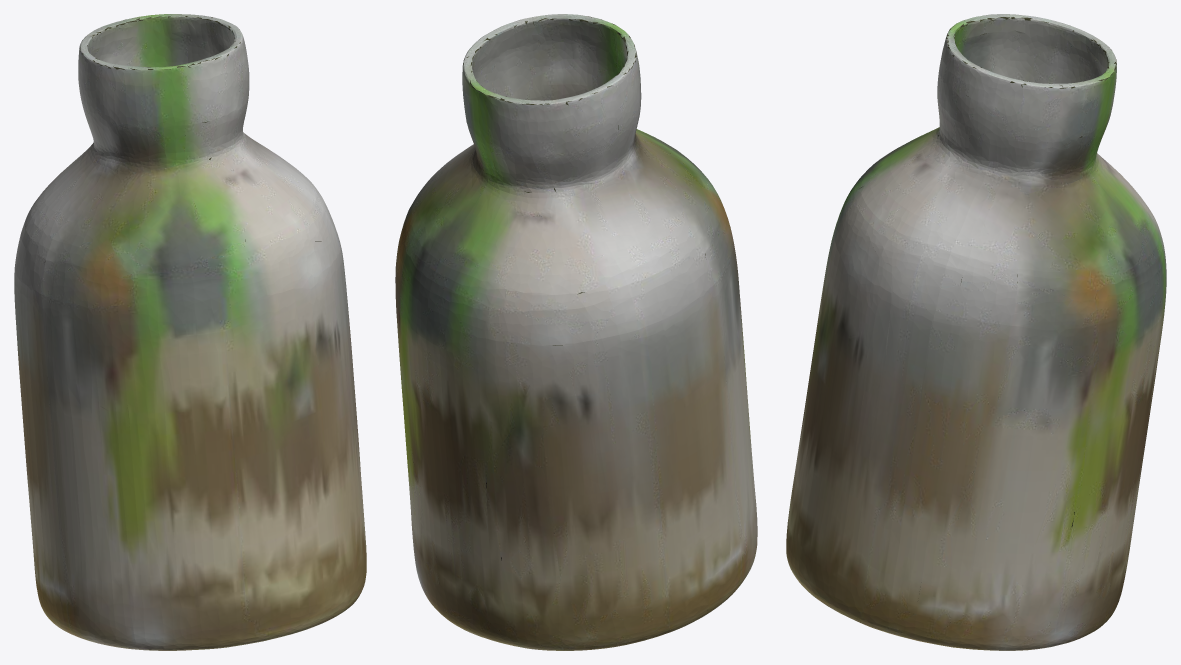
Rendered from pair_of_glass_vases_with_plants_on_console_table_001.glb.
The picture shows the model from 3 angles, left to right: view 1: azimuth 30°, elevation 25°; view 2: azimuth 150°, elevation 25°; view 3: azimuth 270°, elevation 25°; orthographic projection.
Parts seen in each view (by area): view 1: pair_of_glass_vases_with_plants_on_console_table_001.obj; view 2: pair_of_glass_vases_with_plants_on_console_table_001.obj; view 3: pair_of_glass_vases_with_plants_on_console_table_001.obj.
Part boxes in pixels (x1,y1,x2,y2): pair_of_glass_vases_with_plants_on_console_table_001.obj: [14, 14, 366, 650]; pair_of_glass_vases_with_plants_on_console_table_001.obj: [395, 14, 757, 650]; pair_of_glass_vases_with_plants_on_console_table_001.obj: [786, 14, 1166, 650].
Size of the model in its own units: 0.0573 by 0.1053 by 0.0648.
Materials: 1 (1 with a texture image).
